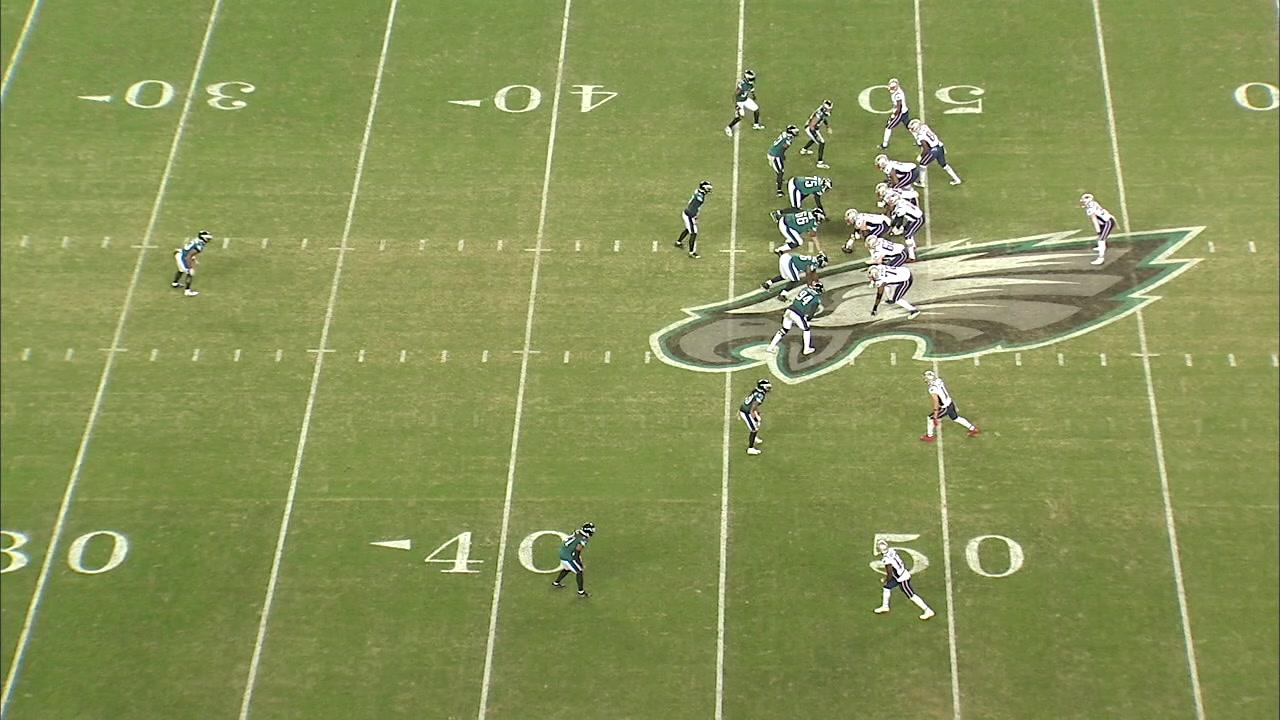defense: (771, 277, 830, 358), (550, 515, 599, 602), (672, 180, 719, 262), (757, 253, 831, 303), (768, 173, 835, 222), (733, 374, 771, 456), (168, 227, 213, 295), (766, 125, 802, 201), (765, 209, 825, 252), (801, 99, 836, 170), (725, 71, 761, 138)
oline: (866, 266, 921, 323), (842, 208, 889, 256), (875, 153, 921, 191), (865, 235, 907, 265), (876, 181, 917, 210)
qb: (890, 195, 925, 267)
skill: (872, 538, 939, 627), (920, 365, 981, 446), (910, 116, 961, 190), (876, 76, 912, 149), (1082, 193, 1117, 266)
